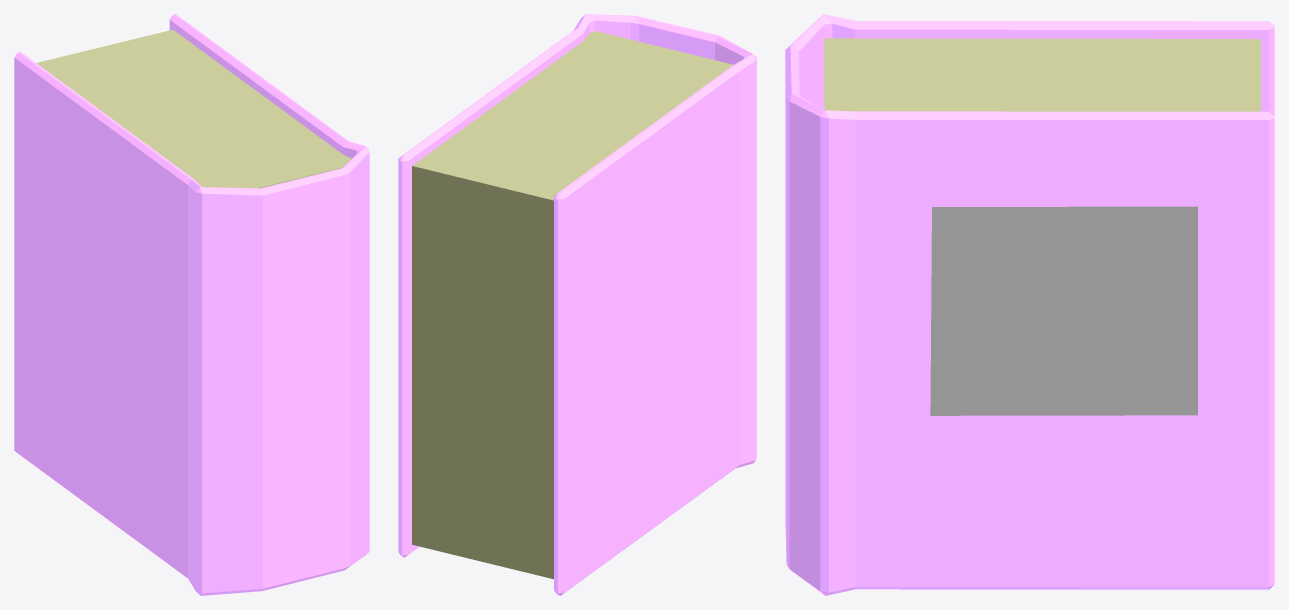
File: GlowingBook.fbx
The picture shows the model from 3 angles, left to right: view 1: azimuth 30°, elevation 25°; view 2: azimuth 150°, elevation 25°; view 3: azimuth 270°, elevation 25°; orthographic projection. The views are drawn at different scales.
Visible parts, largest first — view 1: BookCover.001; view 2: BookCover.001; view 3: BookCover.001.
Part boxes in pixels (<box>): BookCover.001: <box>14,14,369,595</box>; BookCover.001: <box>398,14,756,595</box>; BookCover.001: <box>785,14,1274,595</box>.
Bounding box in the file's own units: 136 × 305 × 279.
